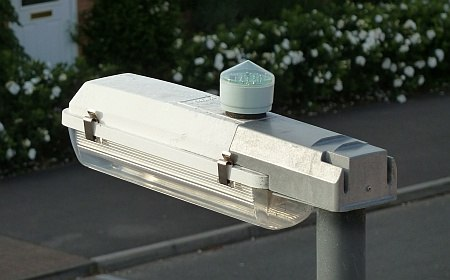Top_Street_Light: (46, 64, 401, 214)
